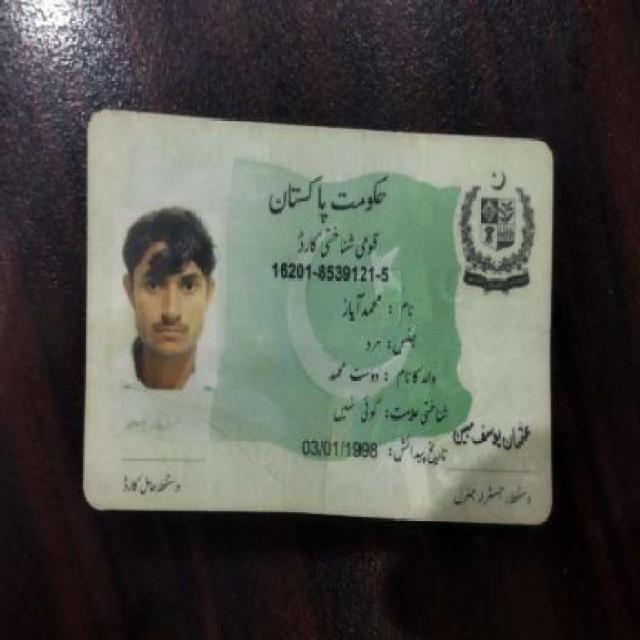Front: (79, 104, 563, 538)
